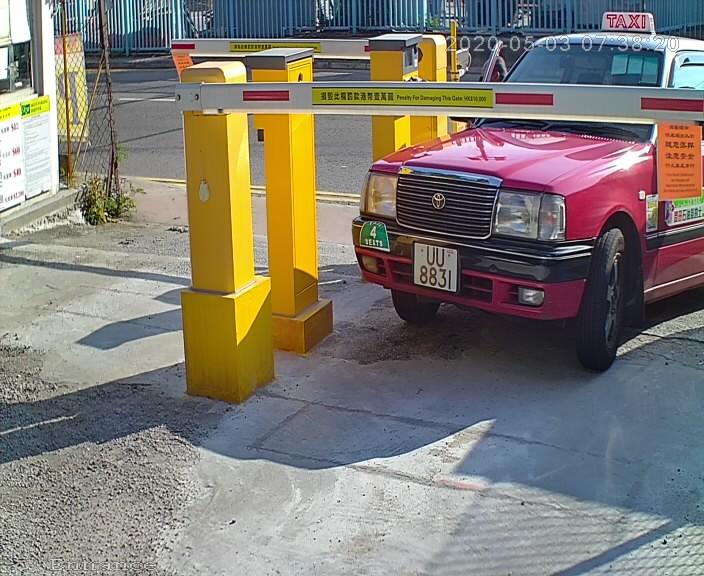Car: (337, 5, 704, 381)
License Plate: (406, 235, 466, 300)
